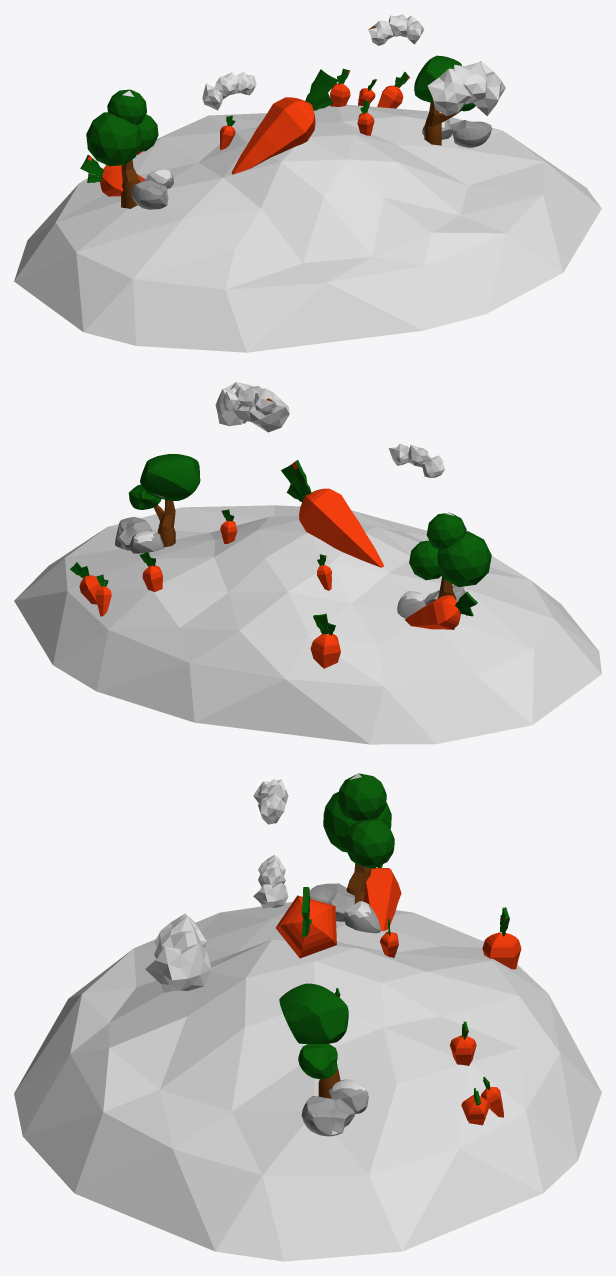
File: carrot_RE.FBX
3 renders of one model, top to bottom at view 1: azimuth 30°, elevation 25°; view 2: azimuth 150°, elevation 25°; view 3: azimuth 270°, elevation 25°, orthographic. The views are drawn at different scales.
Visible parts, largest first — view 1: GeoSphere009; view 2: GeoSphere009; view 3: GeoSphere009.
Part boxes in pixels (left/top/right/bottom): GeoSphere009: left=14, top=14, right=601, bottom=352; GeoSphere009: left=14, top=381, right=601, bottom=744; GeoSphere009: left=14, top=773, right=601, bottom=1261.
Size of the model in its own units: 237 by 97.19 by 182.
